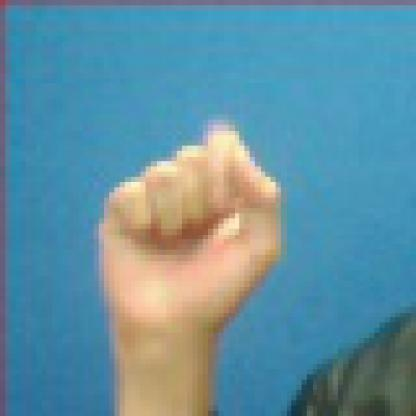zero: (78, 109, 300, 376)
